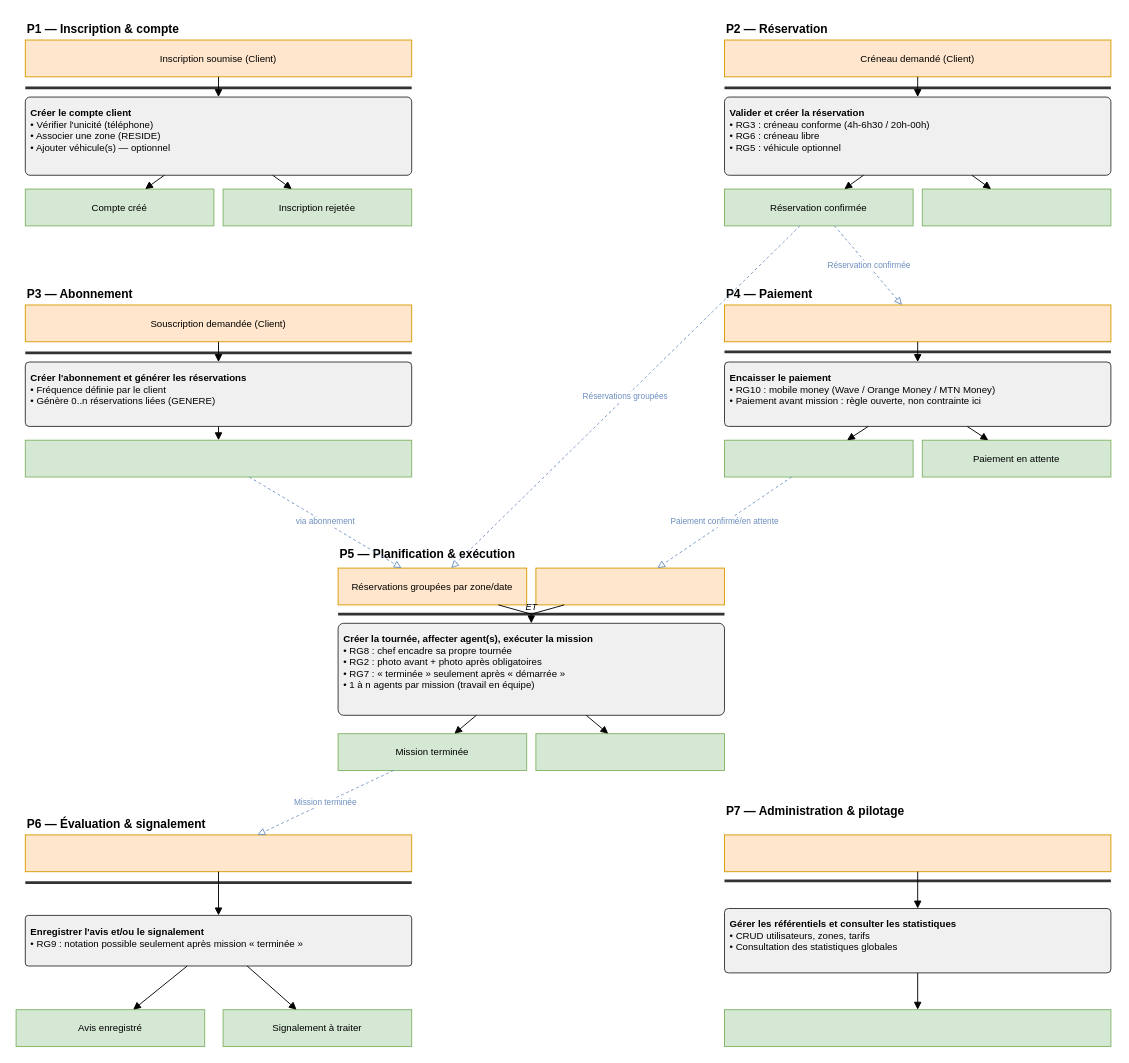
Some shapes in this 1129 by 1063 pixel diagram are drawn without their labels. The shapes that lost their labels are listed below. From the top down, each one's centre as x and y in pixels, then its label:
At (1016,207): "Réservation refusée".
At (917,323): "Réservation confirmée (P2/P3)".
At (218,458): "Abonnement actif".
At (818,458): "Paiement confirmé".
At (629,586): "Paiement confirmé ou en attente".
At (629,751): "Anomalie signalée".
At (218,853): "Mission terminée (P5)".
At (917,853): "Action de l'administrateur (asynchrone)".
At (917,1027): "Référentiel mis à jour".
